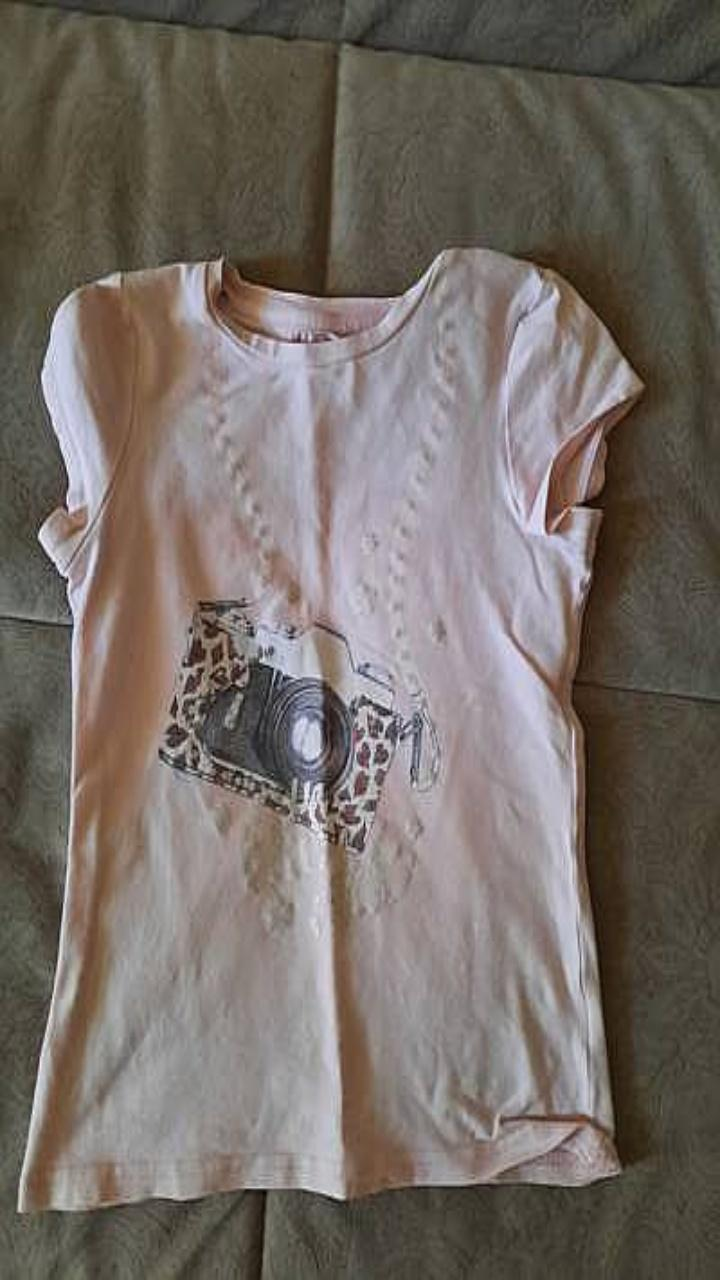T-Shirt: (18, 247, 642, 1211)
